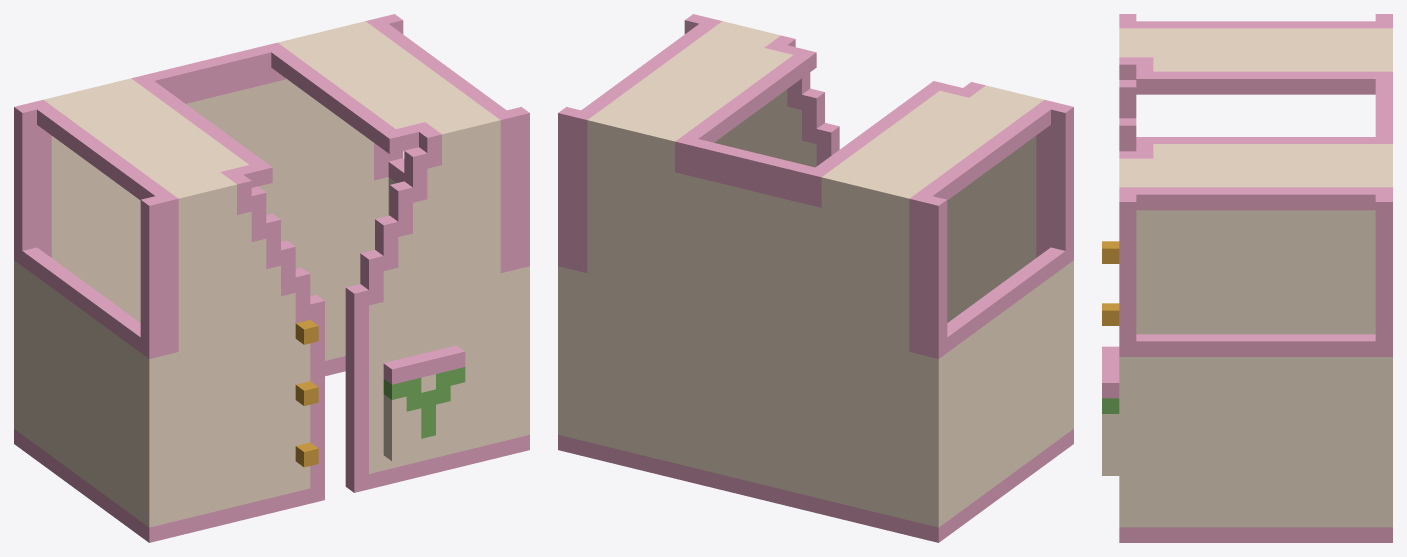
Rendered from angie-acc4.608488a6.glb.
3 renders of one model, left to right at view 1: azimuth 30°, elevation 25°; view 2: azimuth 150°, elevation 25°; view 3: azimuth 270°, elevation 25°, orthographic.
Parts seen in each view (by area): view 1: chaleco, ribete, brote_bordado, botones; view 2: chaleco, ribete; view 3: chaleco, ribete, botones.
Boxes of the visible parts, left/top/right/bottom form: chaleco: left=14, top=21, right=529, bottom=527; ribete: left=14, top=14, right=529, bottom=542; brote_bordado: left=383, top=367, right=465, bottom=438; botones: left=295, top=320, right=318, bottom=467; chaleco: left=558, top=21, right=1073, bottom=527; ribete: left=558, top=14, right=1073, bottom=542; chaleco: left=1102, top=28, right=1392, bottom=527; ribete: left=1102, top=14, right=1392, bottom=542; botones: left=1102, top=241, right=1119, bottom=325.
Bounding box in the file's own units: 0.468 × 0.396 × 0.306.
